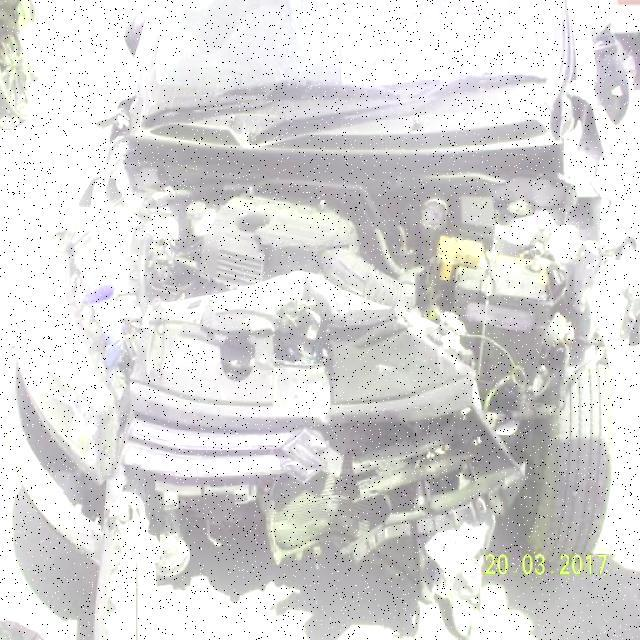car damage: (2, 201, 639, 561), (263, 0, 461, 86)
